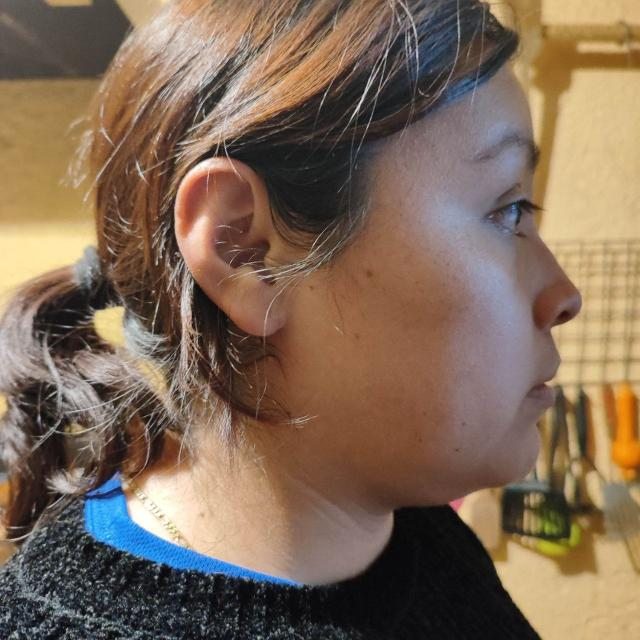ear: (175, 159, 286, 336)
